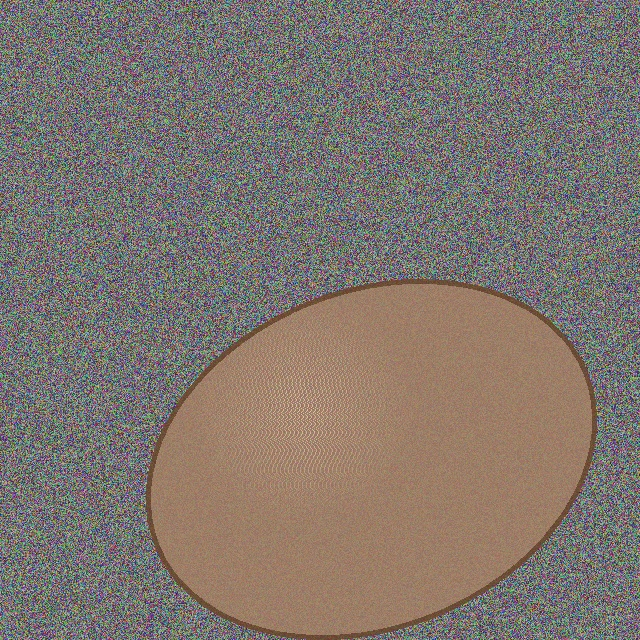lens: (148, 281, 594, 637)
